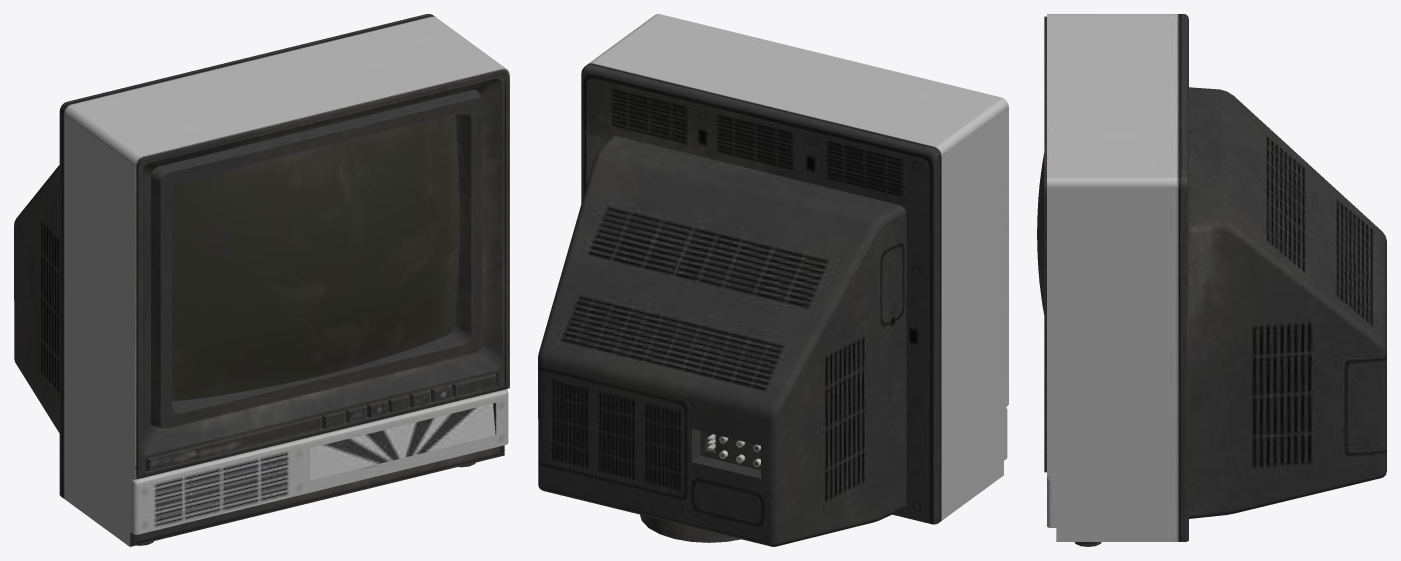
3 renders of one model, left to right at view 1: azimuth 30°, elevation 25°; view 2: azimuth 150°, elevation 25°; view 3: azimuth 270°, elevation 25°, orthographic. The views are drawn at different scales.
Visible parts, largest first — view 1: television_02; view 2: television_02; view 3: television_02.
Part boxes in pixels (<box>): television_02: <box>14,14,509,546</box>; television_02: <box>538,14,1008,546</box>; television_02: <box>1037,14,1386,546</box>.
Bounding box in the file's own units: 0.3997 × 0.4114 × 0.3502.
1 material, 1 textured.
